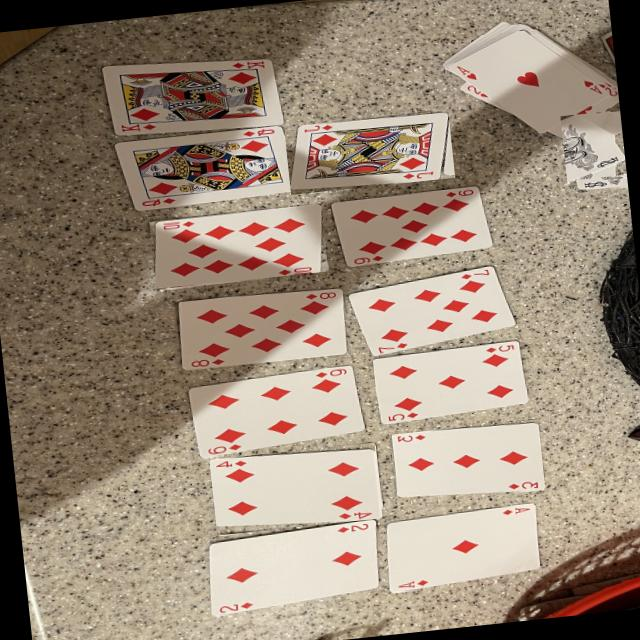10 of diamonds: (154, 204, 322, 288)
2 of diamonds: (209, 519, 380, 616)
3 of diamonds: (391, 423, 545, 498)
4 of diamonds: (210, 449, 381, 527)
5 of diamonds: (373, 340, 528, 424)
6 of diamonds: (189, 366, 365, 457)
7 of diamonds: (349, 266, 515, 355)
8 of diamonds: (179, 289, 348, 370)
9 of diamonds: (331, 186, 493, 266)
Ace of diamonds: (386, 504, 540, 592)
Ace of hearts: (446, 31, 608, 131)
Jack of diamonds: (290, 112, 448, 189)
Joker: (561, 115, 625, 180), (575, 171, 627, 190)
King of diamonds: (104, 59, 281, 135)
Queen of diamonds: (114, 126, 299, 210)
